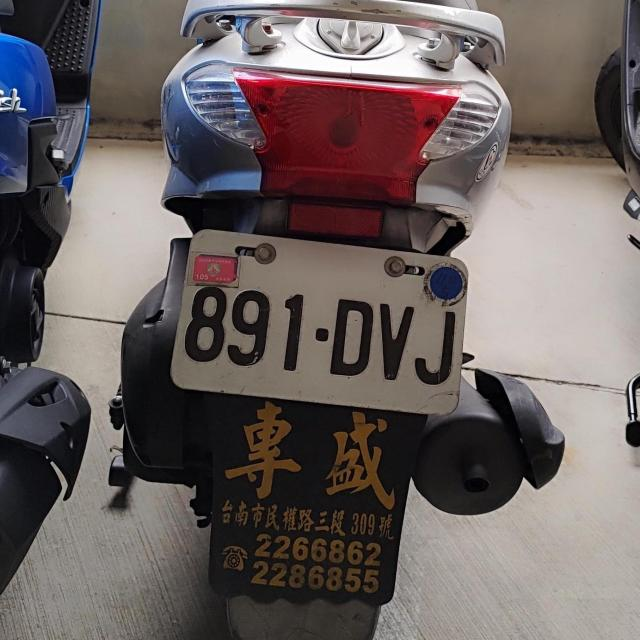W: (165, 226, 466, 414)
